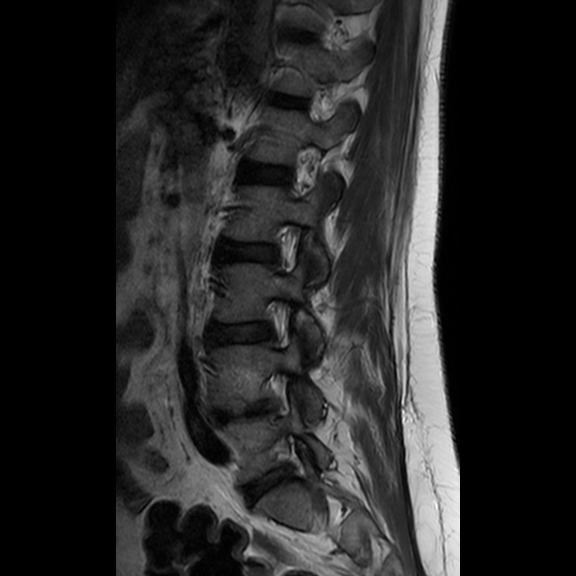LFS0: (252, 285, 306, 361), (261, 210, 312, 284)
